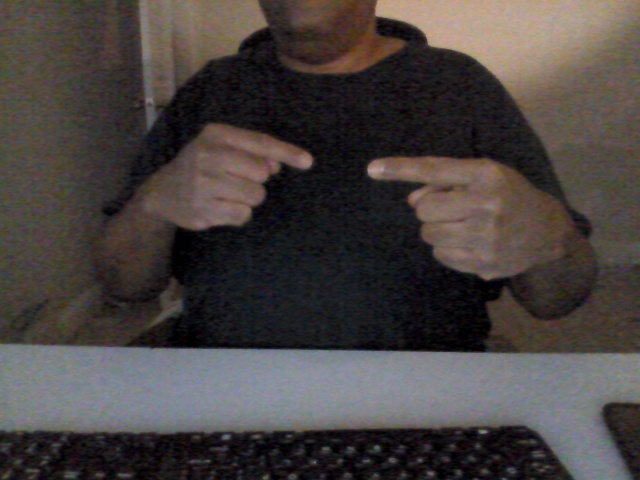go: (158, 118, 521, 294)
